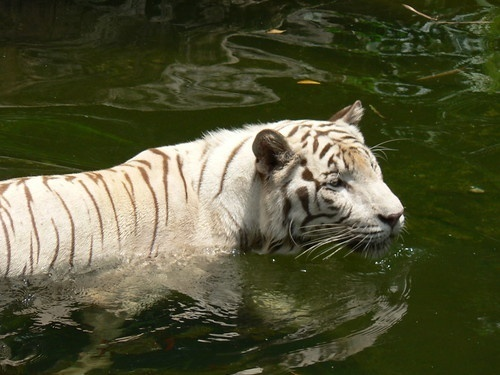tigre: (1, 96, 411, 287)
